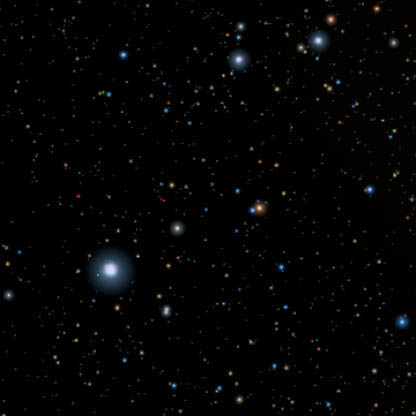Lyra: (96, 253, 131, 290), (229, 50, 252, 75), (306, 29, 329, 52), (165, 214, 182, 243), (250, 194, 268, 218), (160, 300, 181, 317)
